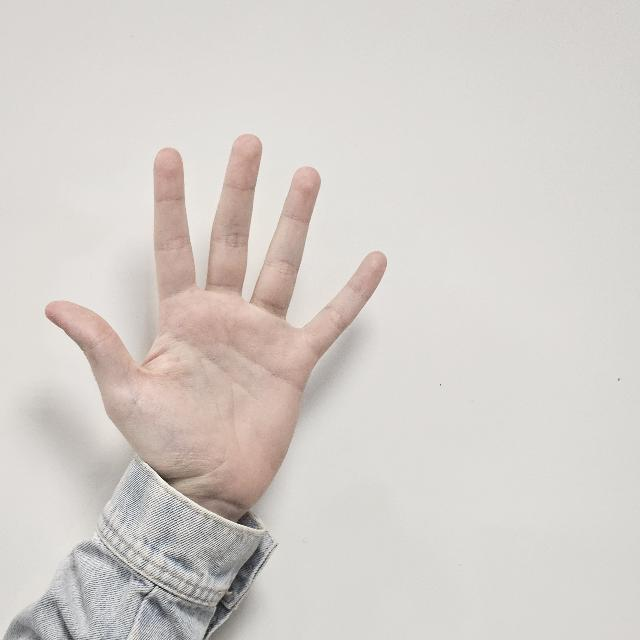X: (47, 133, 397, 531)
